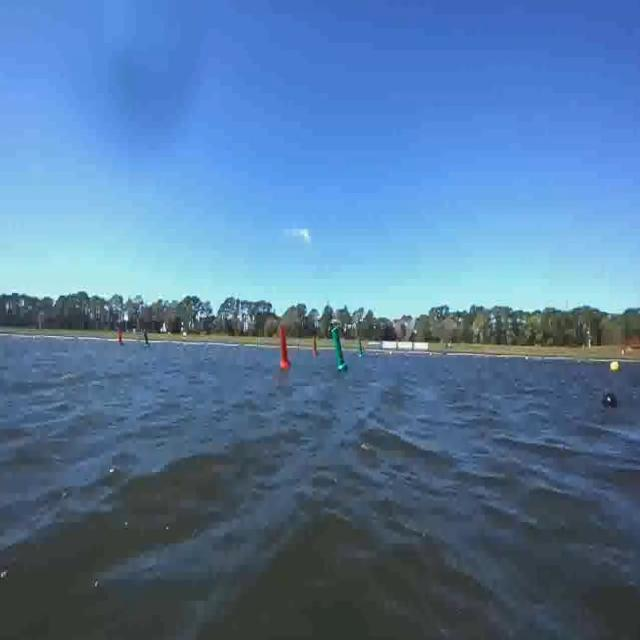black-buoy: (602, 387, 617, 408)
green-column-buoy: (331, 328, 350, 372), (142, 326, 152, 348), (358, 342, 365, 360)
red-column-buoy: (278, 327, 292, 370), (119, 328, 127, 348), (312, 339, 320, 358)
yellow-buoy: (608, 357, 620, 374)
